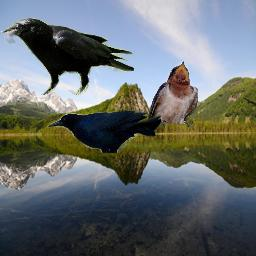Crow: (0, 18, 134, 95), (47, 110, 161, 153)
Swallow: (148, 61, 198, 128)
